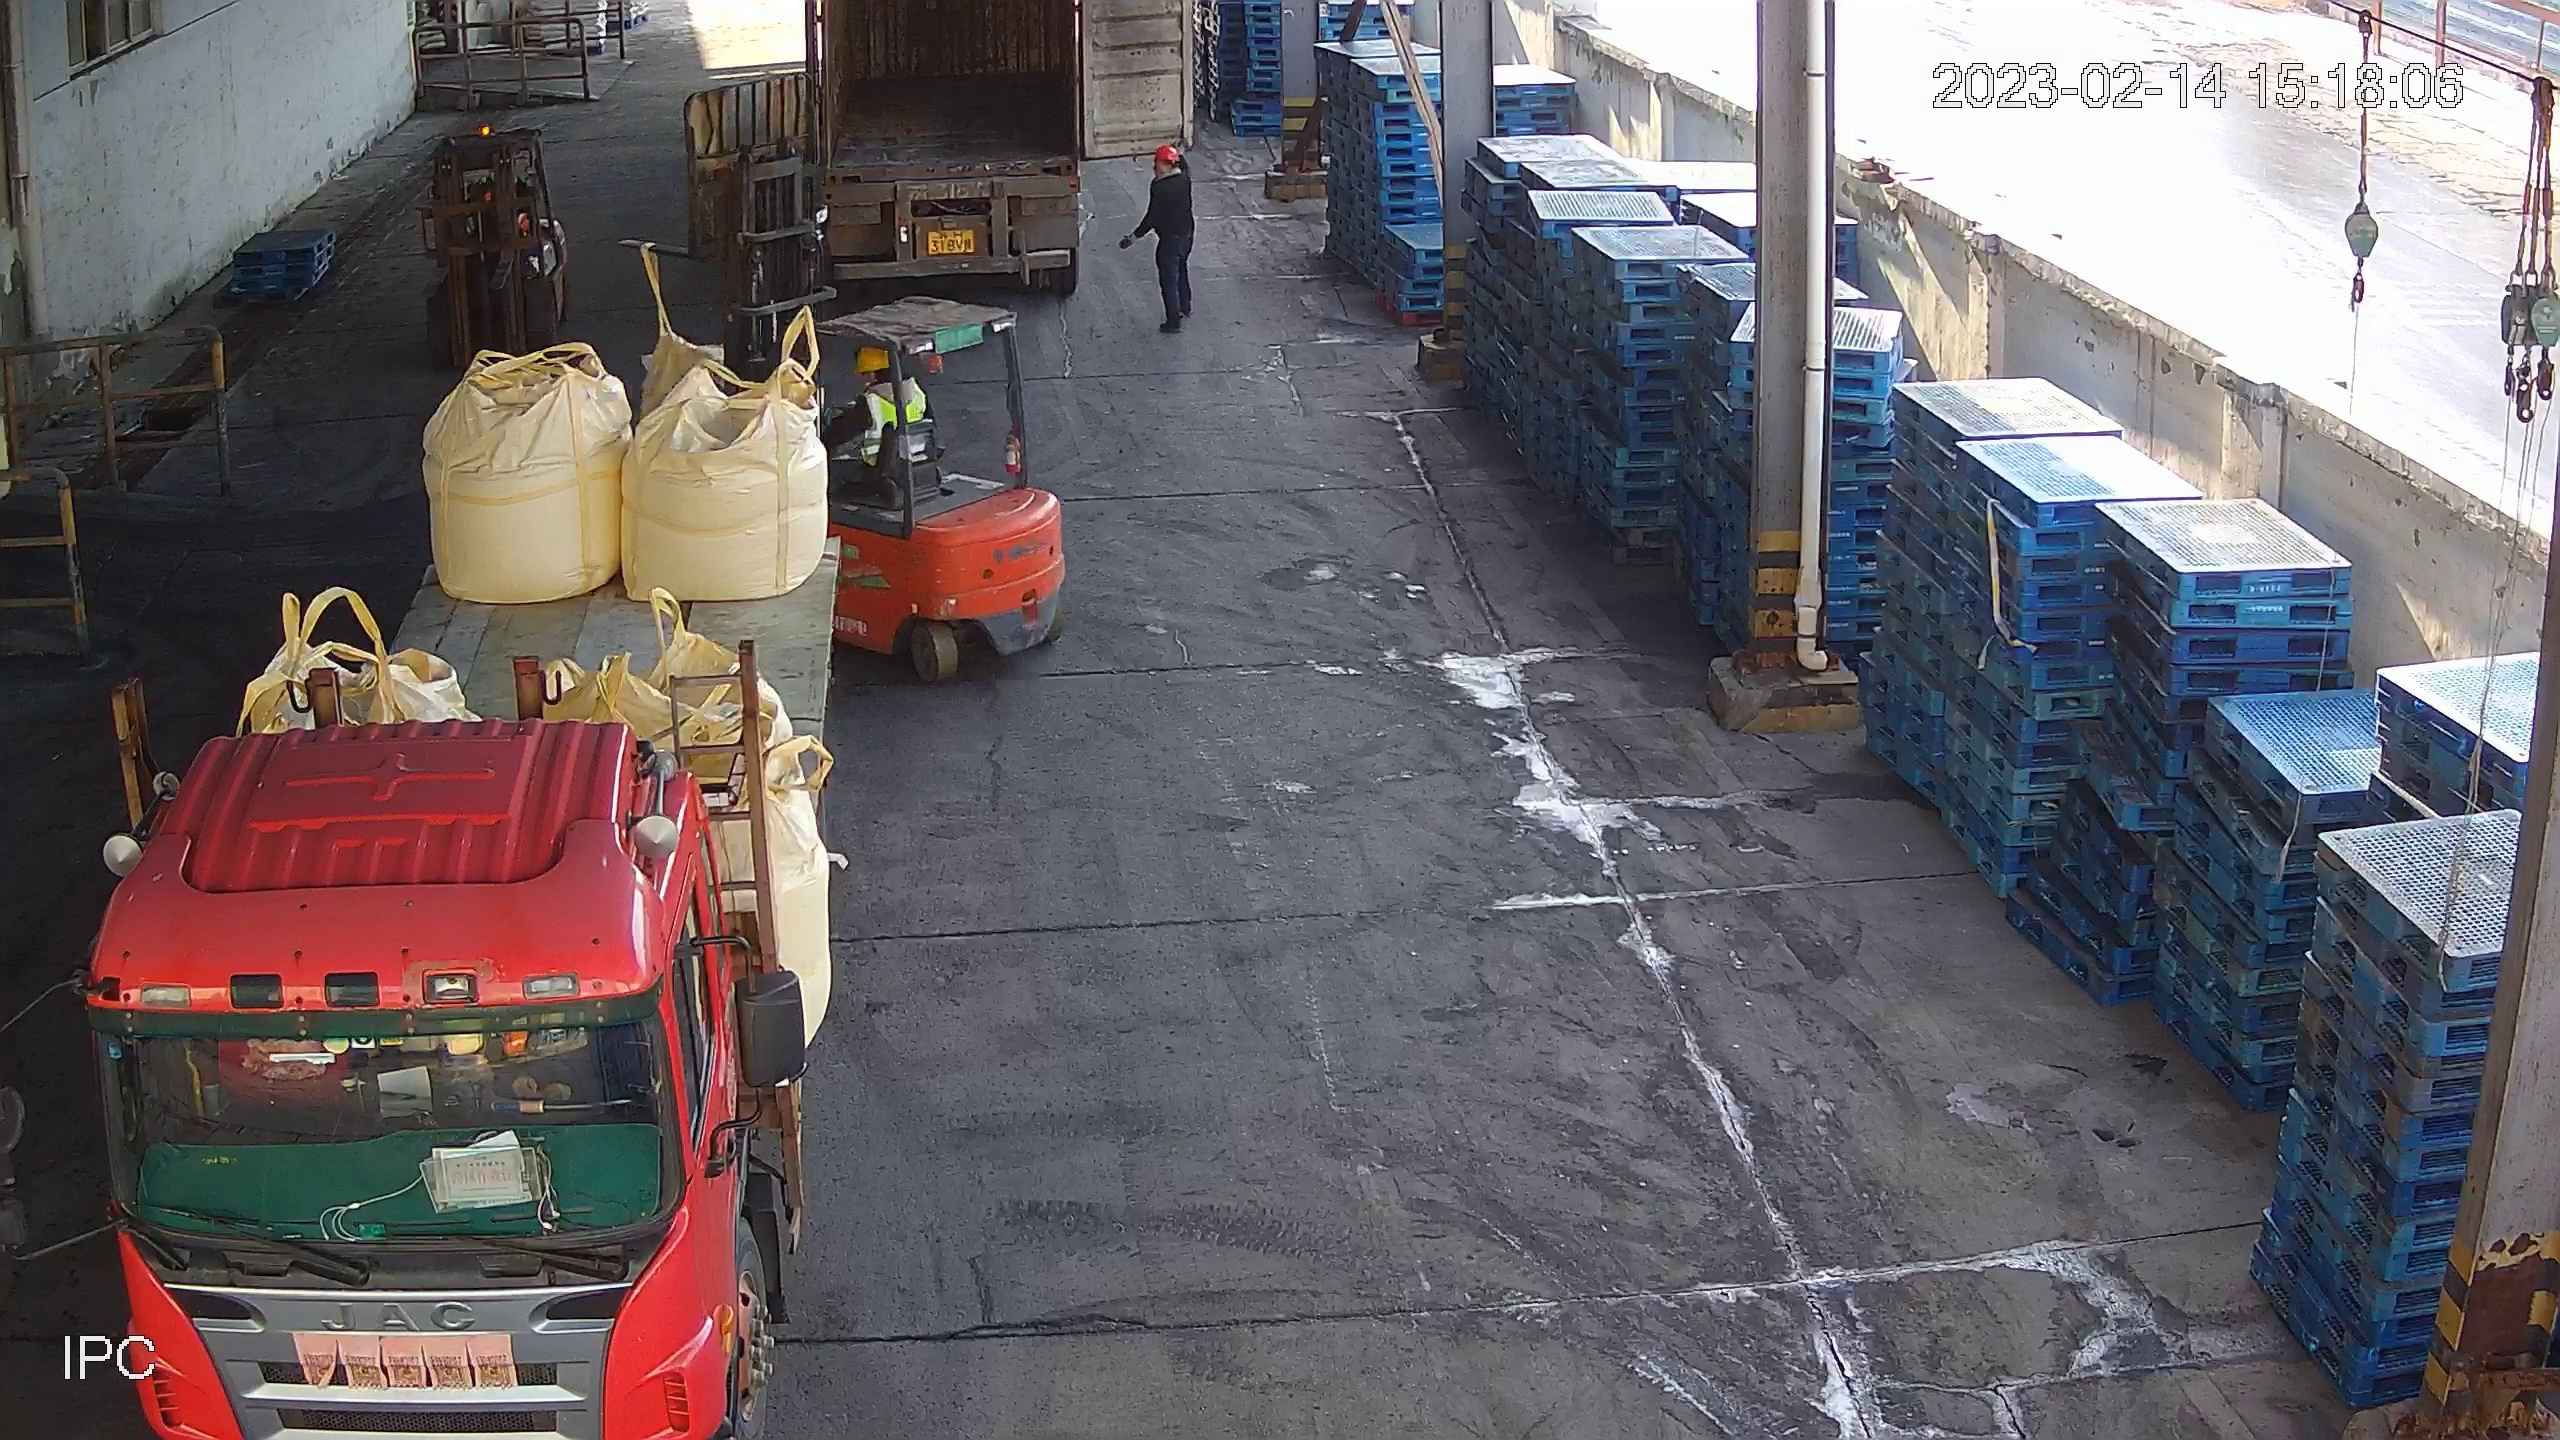head: (832, 350, 941, 463), (1131, 146, 1193, 209)
helmet: (852, 341, 894, 371), (1154, 142, 1180, 162)
people: (1117, 143, 1200, 337)
truck: (79, 518, 854, 1422), (799, 1, 1205, 303)
